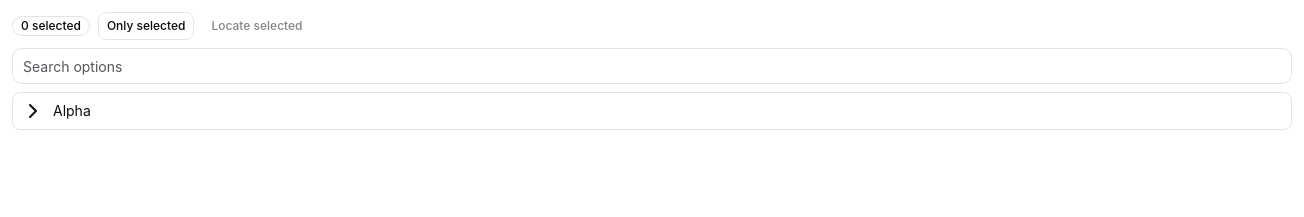
Scenario: CredentialRefPicker › disables the default-key checkbox when the account has no default key
This screenshot has width=1304, height=217.
Click the button with aria-label "Toggle accounts of Alpha": (72, 110) x1=13 y1=93 x2=1291 y2=129
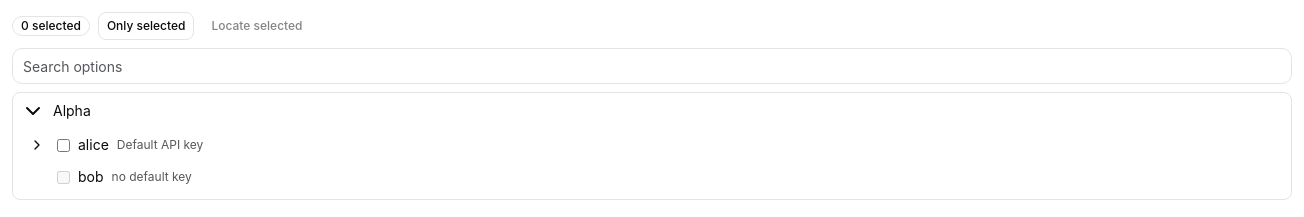
Result: the checkbox labelled "bob no default key" is disabled at x1=57 y1=170 x2=70 y2=184
